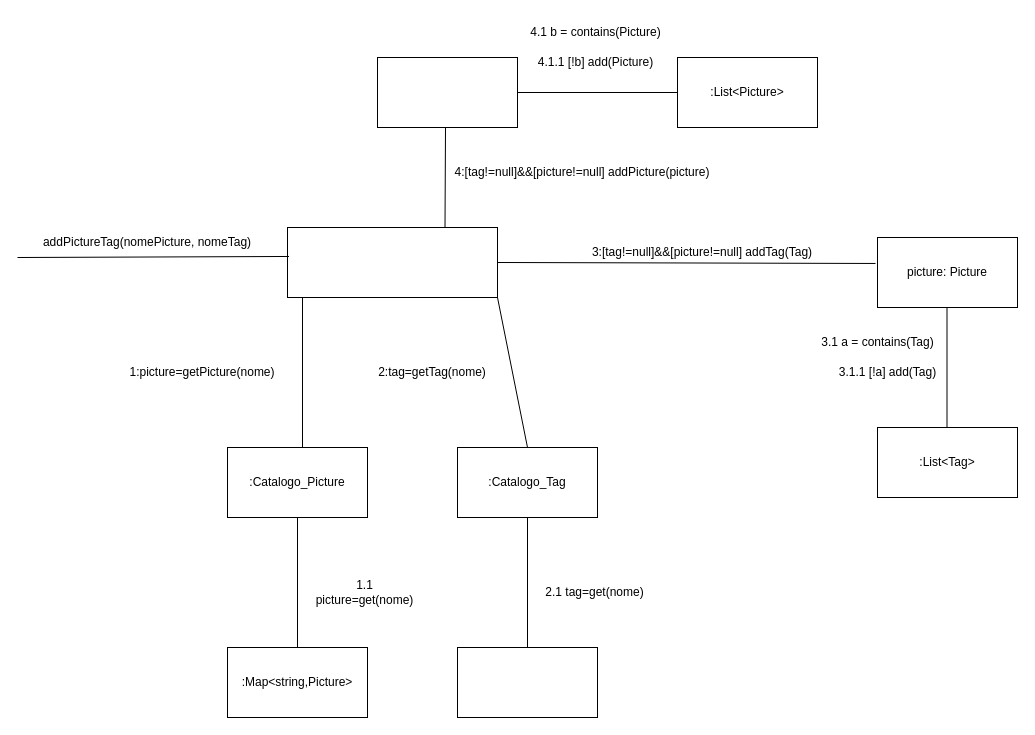
Some shapes in this 1035 by 735 pixel diagram are drawn without their labels. The shapes that lost their labels are listed below. From the top down, each one's centre as x and y in pixels, then its label:
At [447,92]: "tag: Tag".
At [392,262]: ":AddTagHandler".
At [527,682]: ":Map<string,Tag>".
